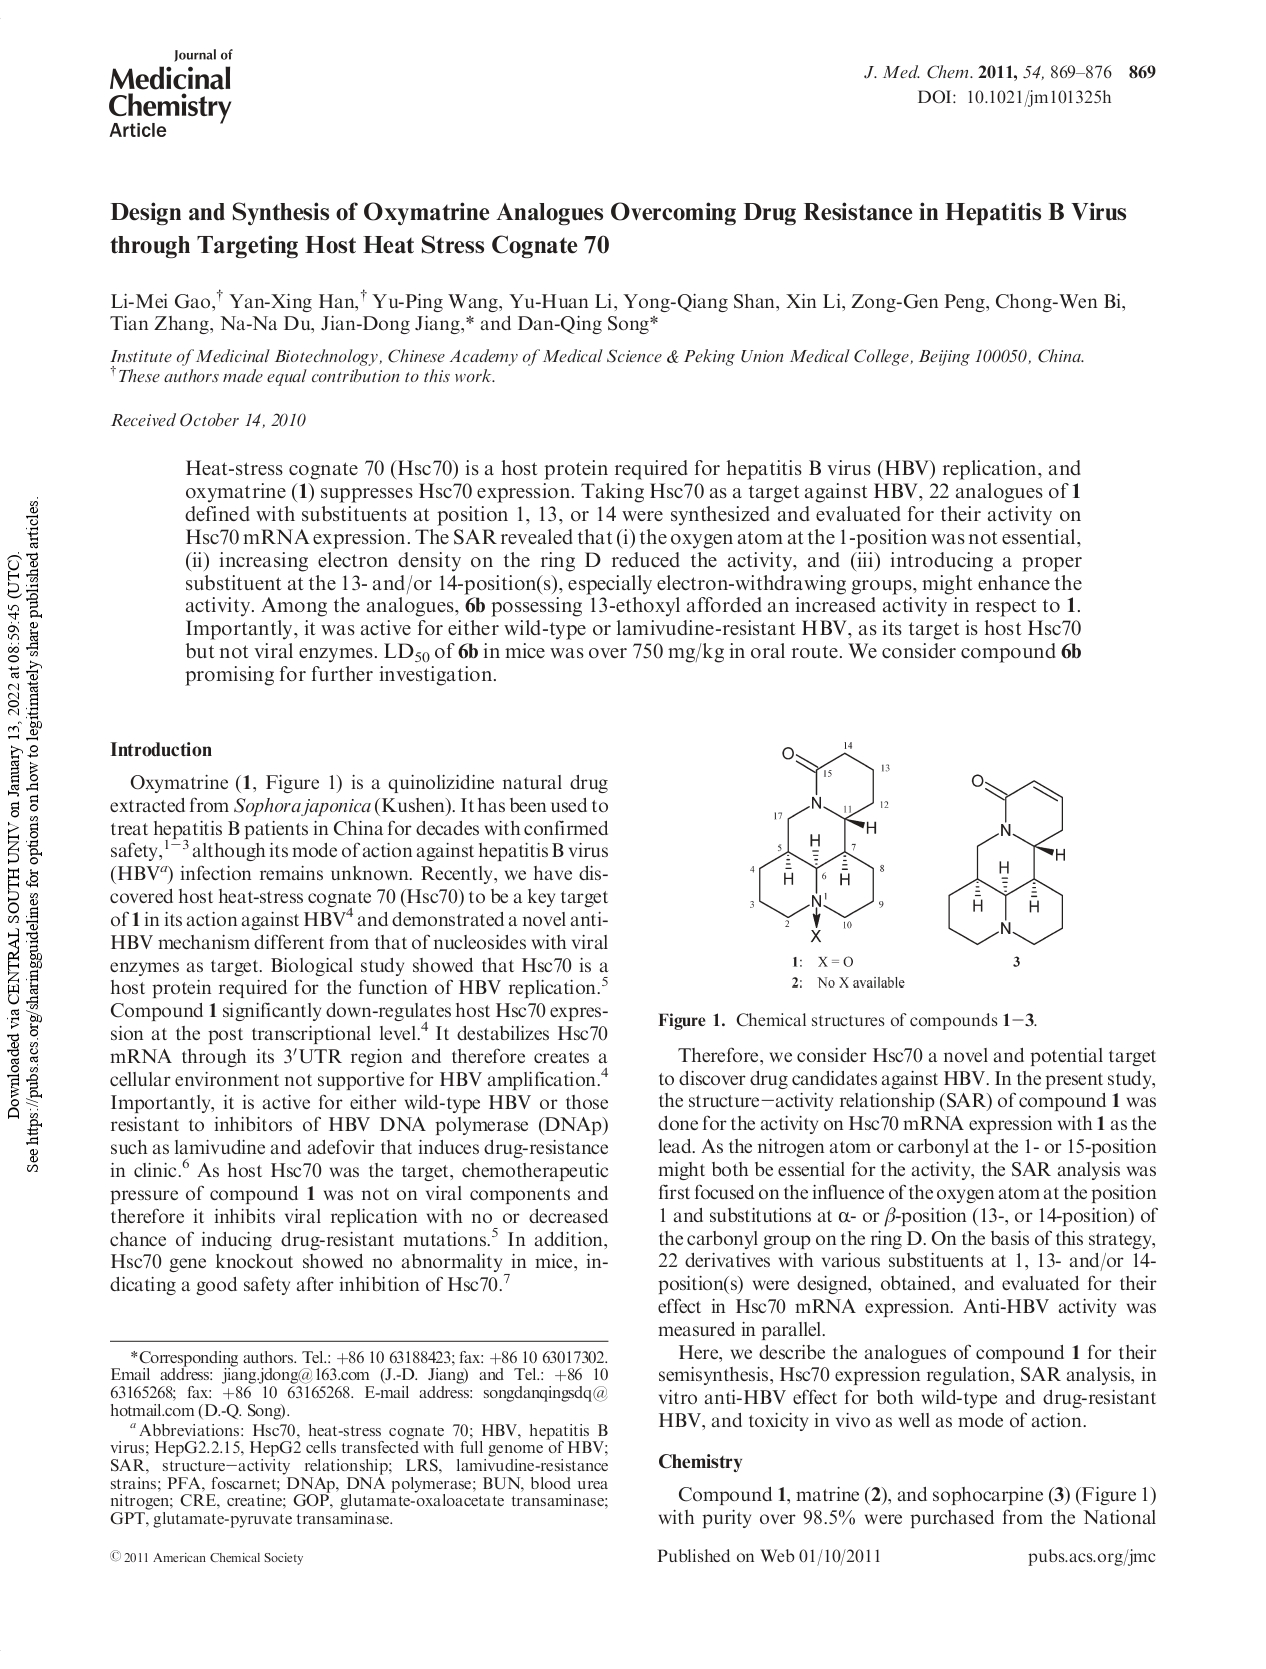exist_molecular: (755, 745, 876, 944), (946, 773, 1069, 947)
